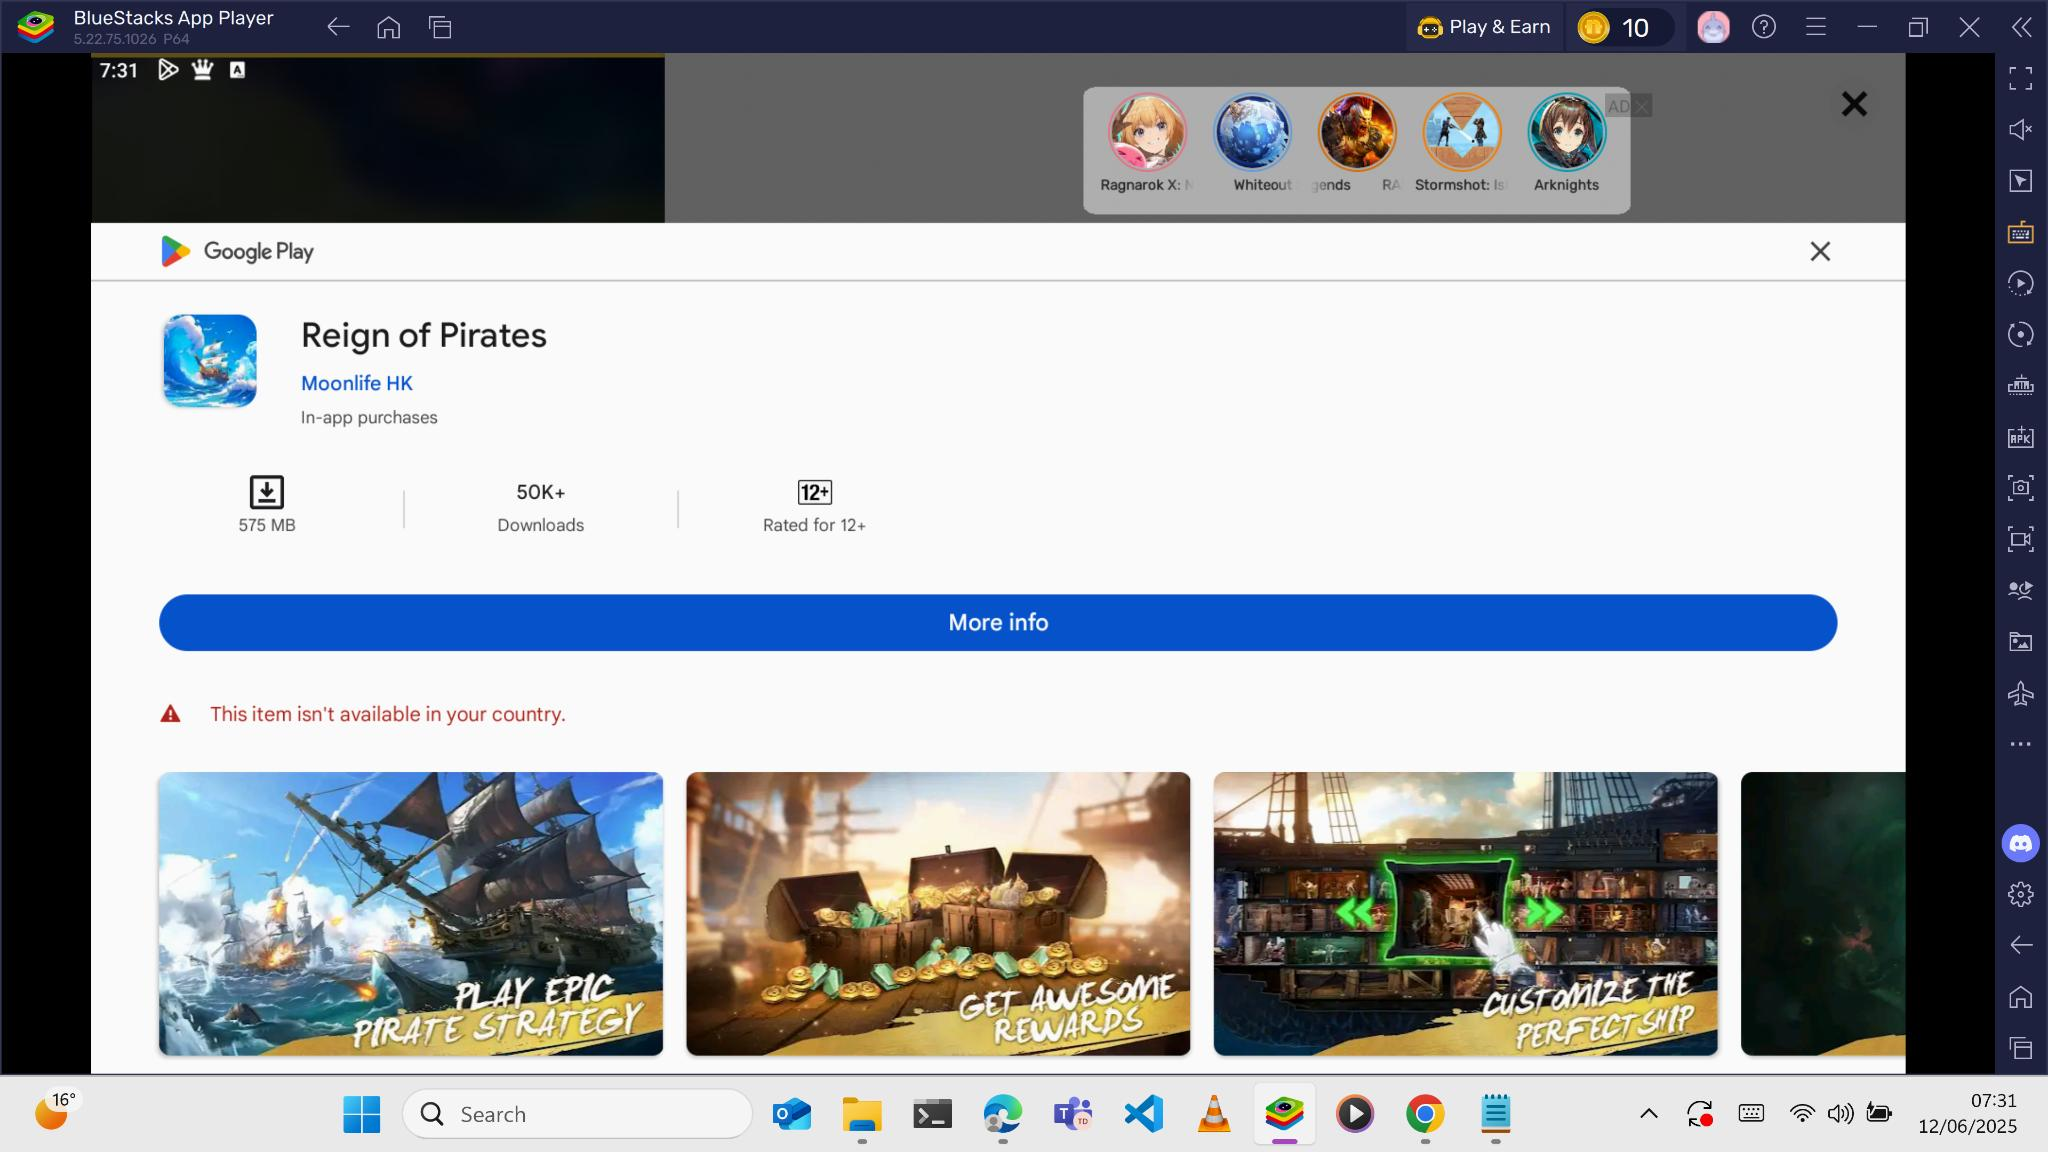close_ad: (1809, 241, 1833, 263)
